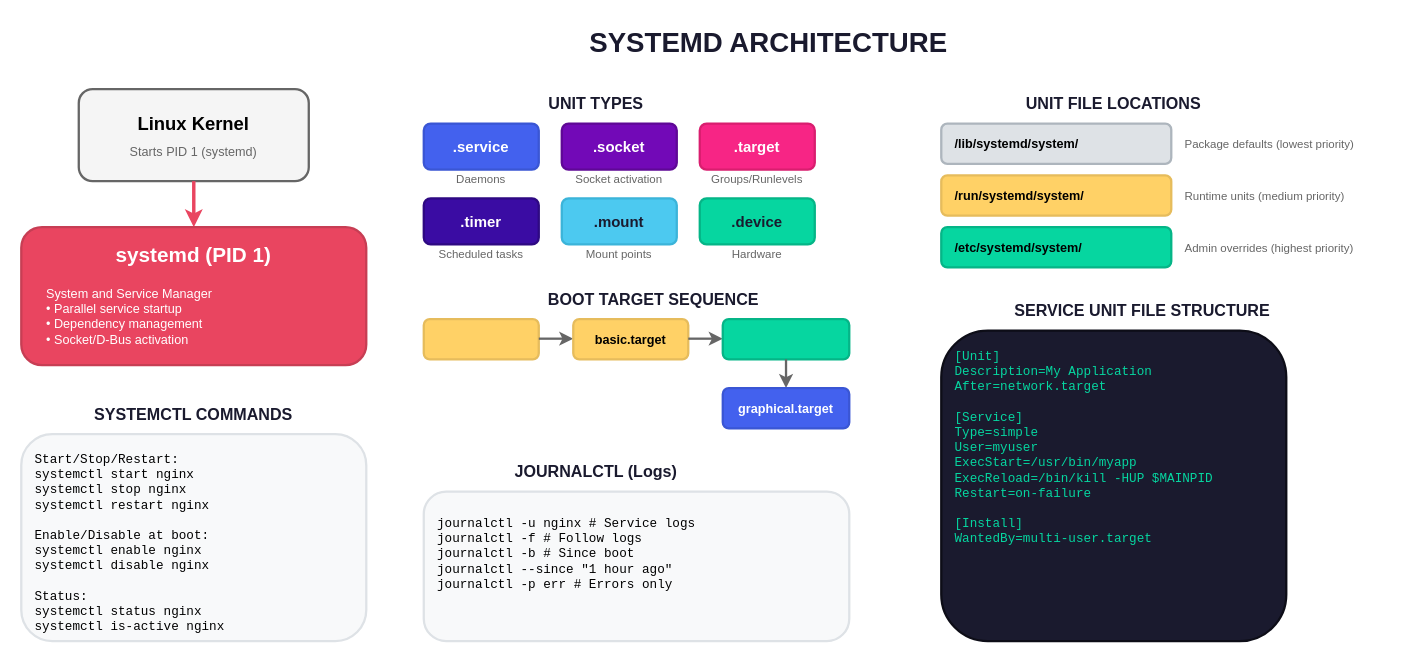
This 1409x661 diagram has some shape labels left out. The shapes that lost their labels are listed below. From the top down, each one's centre as x and y in pixels, then its label:
At point 480,338: "sysinit.target".
At point 785,338: "multi-user.target".
